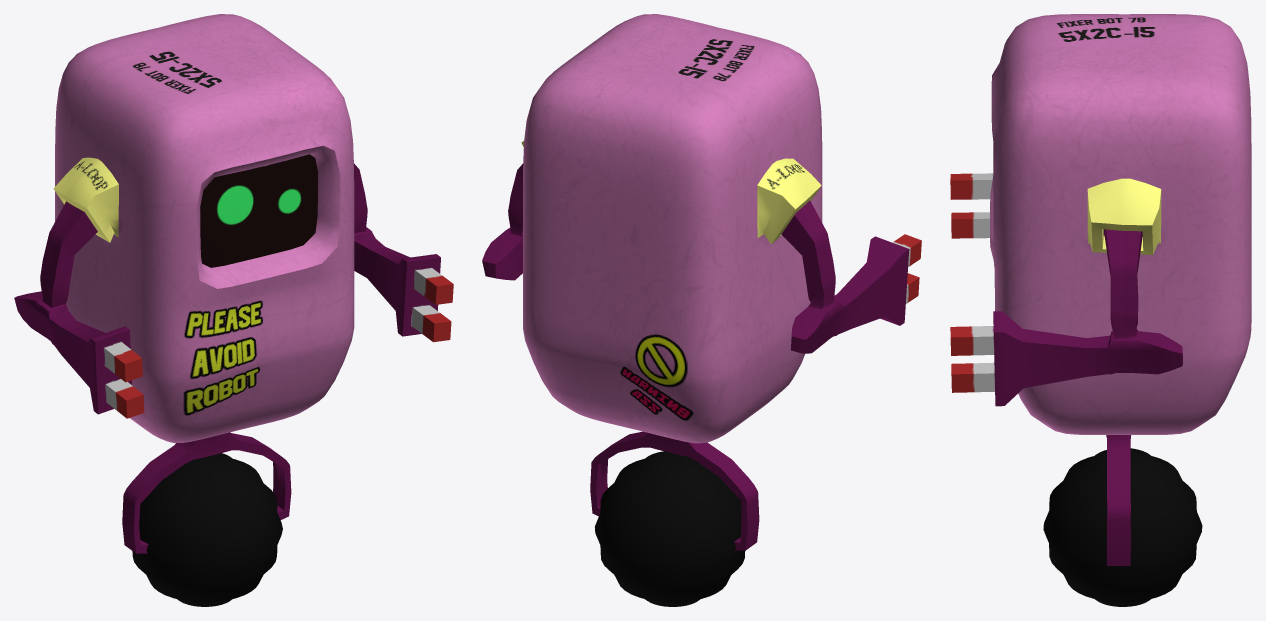
Rendered from Robot.fbx.
The picture shows the model from 3 angles, left to right: view 1: azimuth 30°, elevation 25°; view 2: azimuth 150°, elevation 25°; view 3: azimuth 270°, elevation 25°; orthographic projection.
Visible parts, largest first — view 1: Cube, Sphere; view 2: Cube, Sphere; view 3: Cube, Sphere.
Part boxes in pixels (box(x1,y1,x2,y2)): Cube: box(14, 14, 453, 553); Sphere: box(132, 453, 282, 606); Cube: box(482, 14, 921, 550); Sphere: box(595, 451, 745, 606); Cube: box(950, 14, 1251, 565); Sphere: box(1043, 448, 1202, 606).
Bounding box in the file's own units: 311 × 230 × 465.
